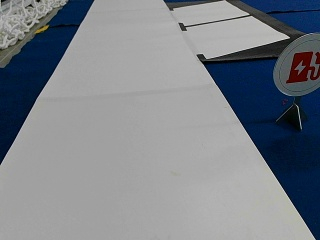battery: (273, 32, 319, 96)
